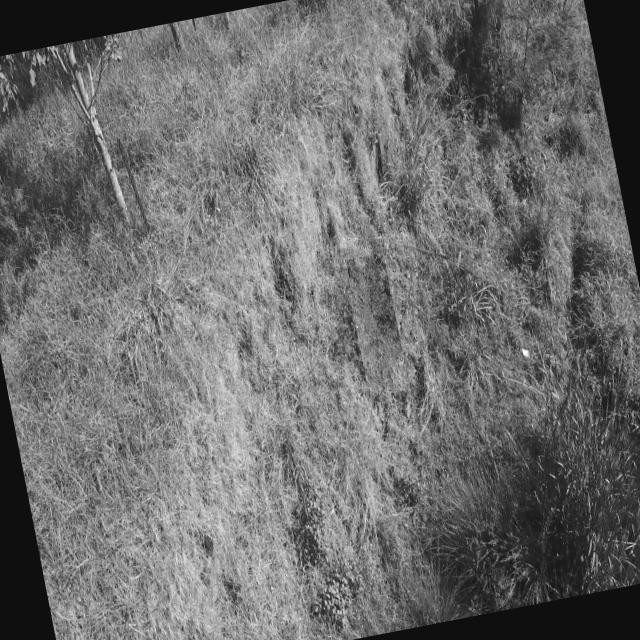Mysore-Thorn-Weed: (343, 252, 410, 398)
